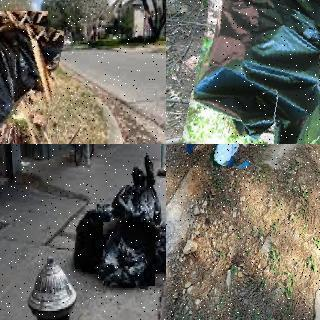Garbage: (194, 0, 320, 144), (0, 4, 56, 144), (100, 220, 158, 288), (73, 201, 113, 271), (111, 164, 147, 229), (141, 152, 166, 223), (144, 218, 166, 272), (211, 144, 250, 167)
